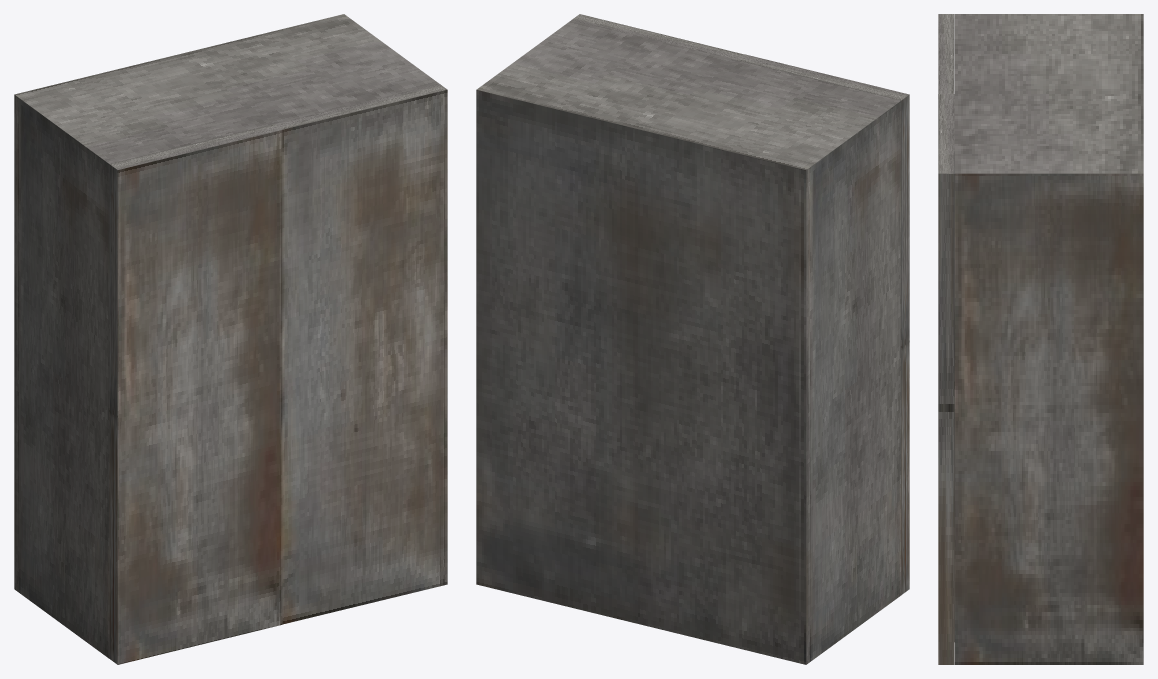
File: armario.glb
The picture shows the model from 3 angles, left to right: view 1: azimuth 30°, elevation 25°; view 2: azimuth 150°, elevation 25°; view 3: azimuth 270°, elevation 25°; orthographic projection.
Visible parts, largest first — view 1: Cube.002, Cube.001, Cube; view 2: Cube, Cube.002, Cube.001; view 3: Cube, Cube.001, Cube.002.
Boxes of the visible parts, x1,y1,x2,y2 form: Cube.002: [109, 124, 282, 664]; Cube.001: [275, 84, 447, 624]; Cube: [14, 14, 438, 658]; Cube: [476, 20, 901, 664]; Cube.002: [737, 54, 909, 594]; Cube.001: [572, 14, 743, 60]; Cube: [954, 14, 1143, 664]; Cube.001: [938, 94, 954, 664]; Cube.002: [938, 14, 954, 147].
Size of the model in its own units: 30.01 by 43 by 16.29.
1 material, 1 textured.
